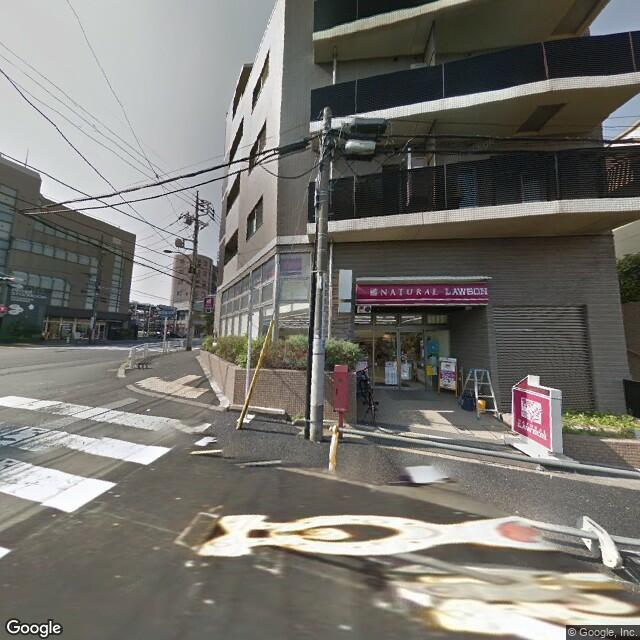lawson: (352, 275, 489, 307), (512, 384, 553, 448)
